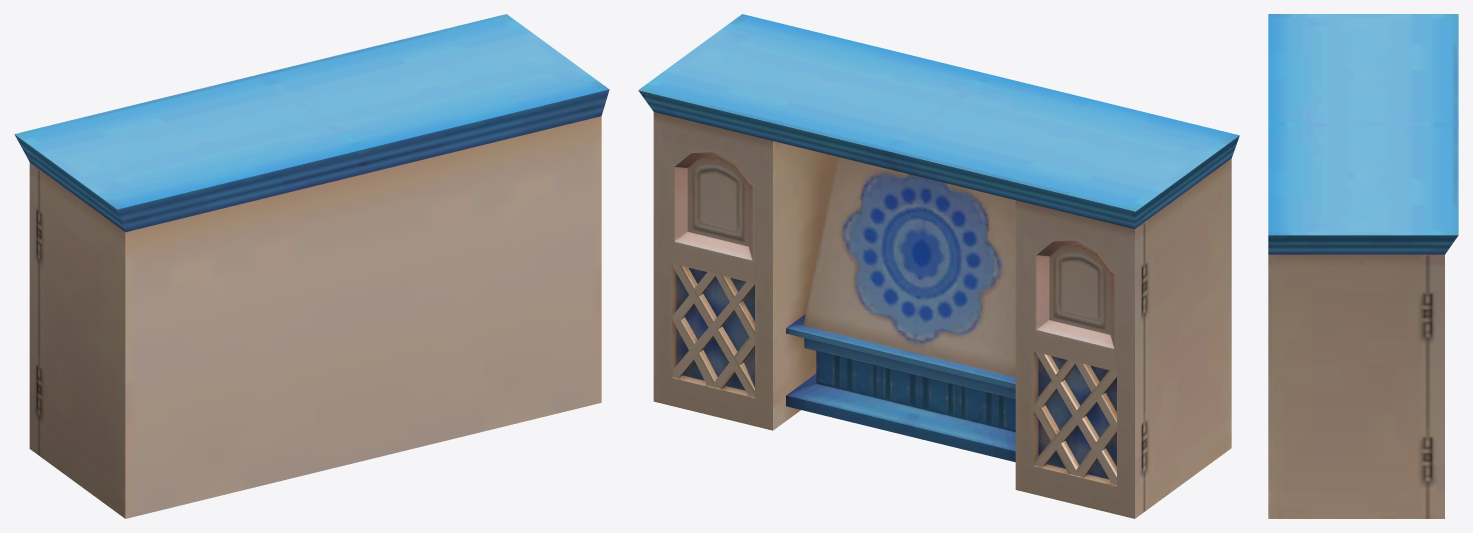
Rendered from furni_0200016_03.FBX.
The picture shows the model from 3 angles, left to right: view 1: azimuth 30°, elevation 25°; view 2: azimuth 150°, elevation 25°; view 3: azimuth 270°, elevation 25°; orthographic projection. The views are drawn at different scales.
Visible parts, largest first — view 1: furni_0200016_03; view 2: furni_0200016_03; view 3: furni_0200016_03.
Boxes of the visible parts, x1,y1,x2,y2 form: furni_0200016_03: [14, 14, 609, 518]; furni_0200016_03: [638, 14, 1239, 518]; furni_0200016_03: [1268, 14, 1458, 518].
Size of the model in its own units: 165 by 100 by 60.
